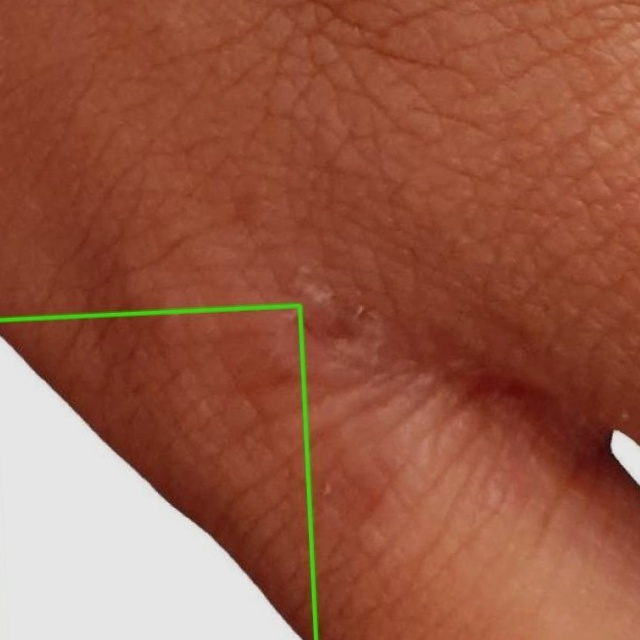Scabies: (0, 305, 315, 639)
